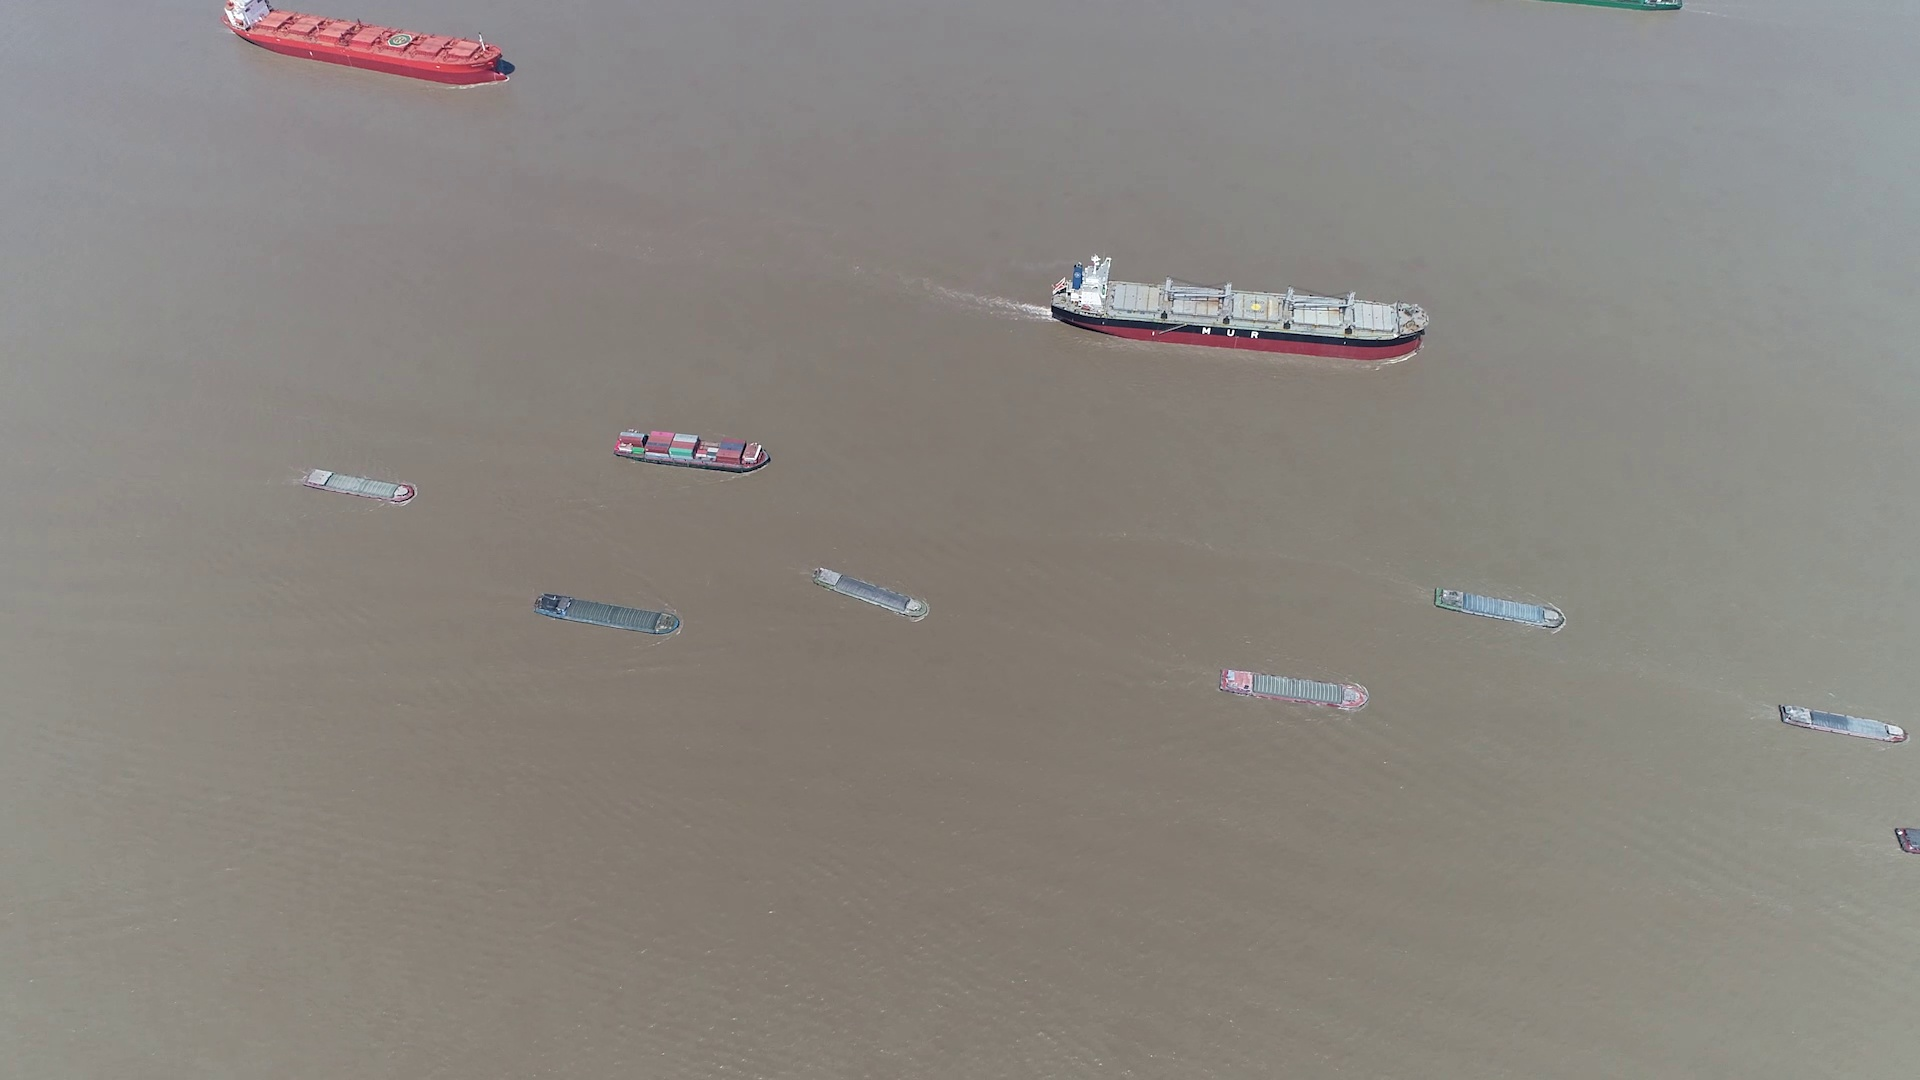ship: (1058, 258, 1425, 356), (223, 0, 516, 84), (613, 429, 773, 473), (1218, 669, 1371, 712), (535, 593, 684, 637), (1431, 587, 1565, 632), (815, 571, 927, 621), (1778, 702, 1903, 742), (303, 468, 417, 505), (1549, 0, 1681, 11)
